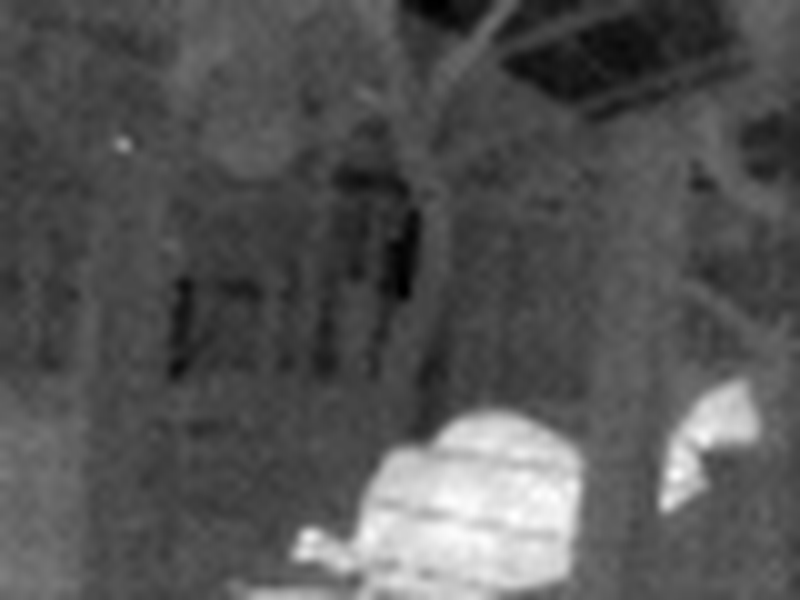elephant: (321, 364, 800, 600)
